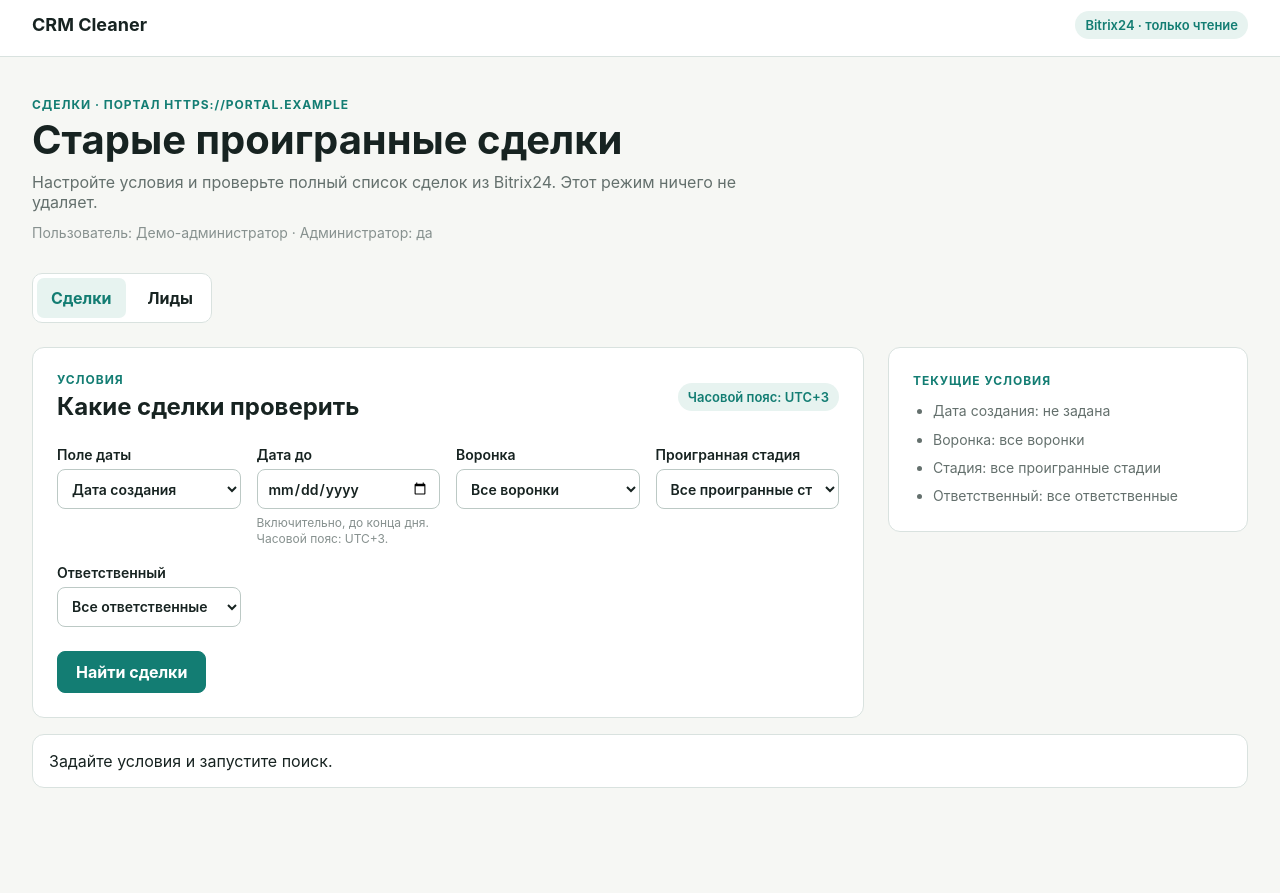
Scenario: App › offers lead preview and CSV but no confirmation in read-only mode even with a delete-capable adapter
The width and height of the screenshot is (1280, 893).
Click the radio button labelled "Лиды": (170, 298) [148,288,193,308]
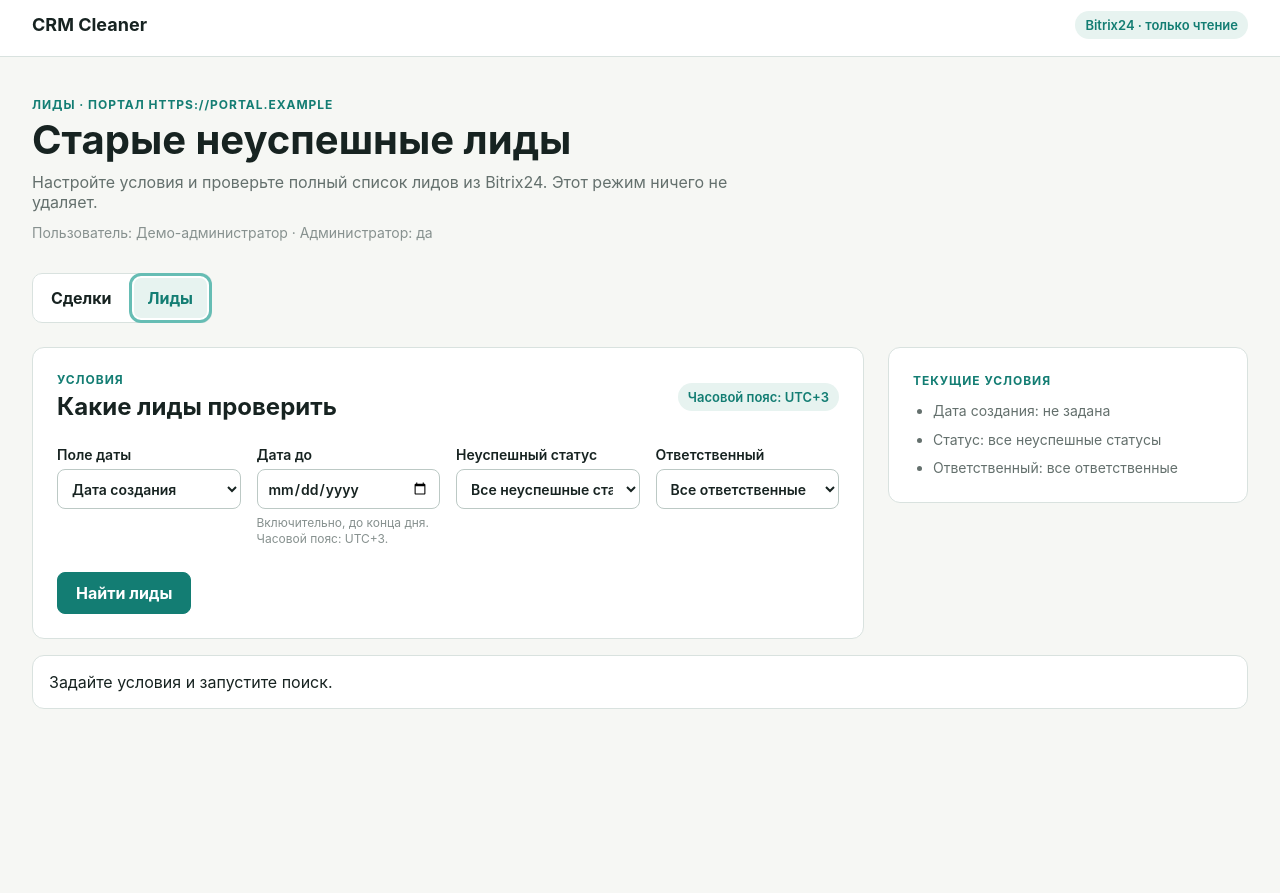
In the date field labelled "Дата до": (348, 489) [256,469,440,509], type "2026-12-31"
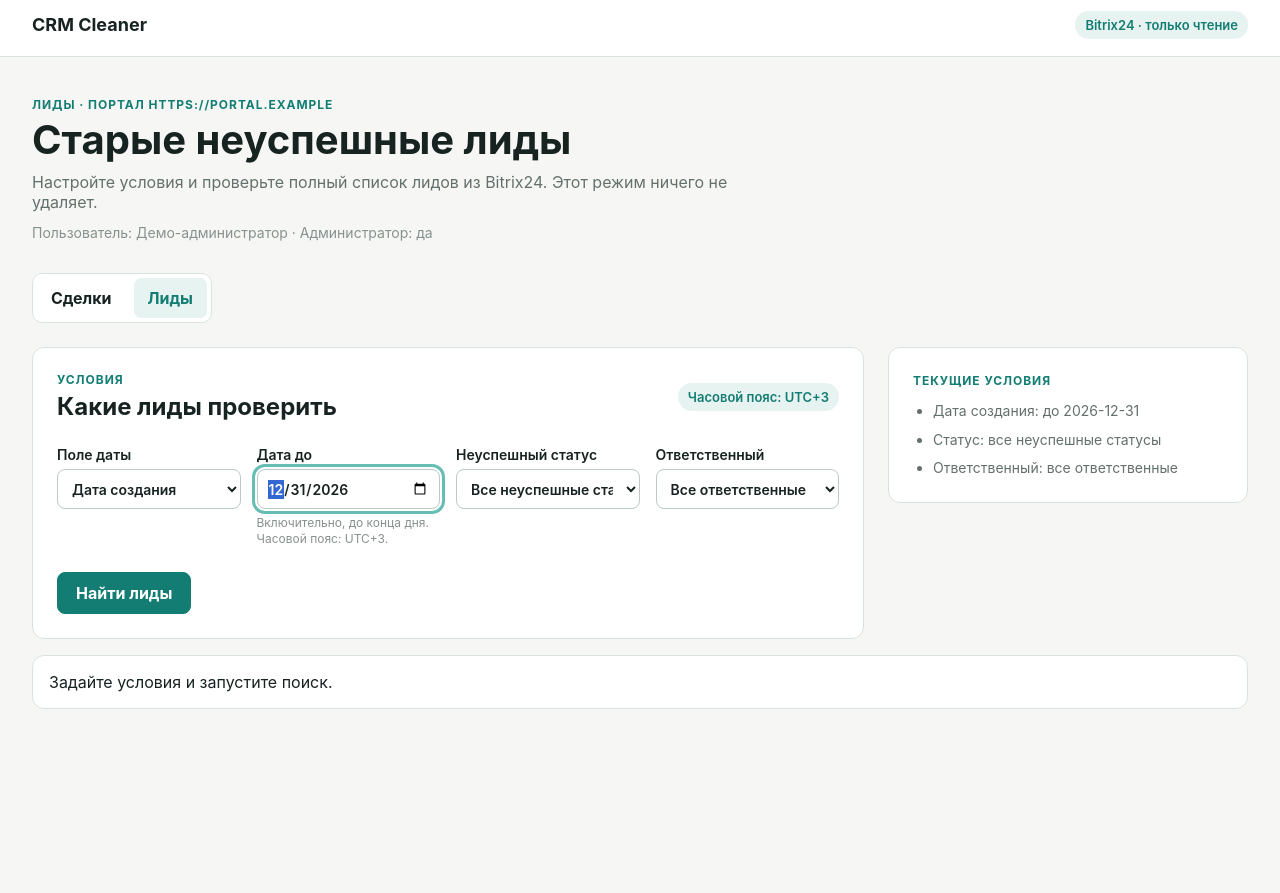
Click the button "Найти лиды": (124, 593) [57,572,191,614]
(page scrolled)
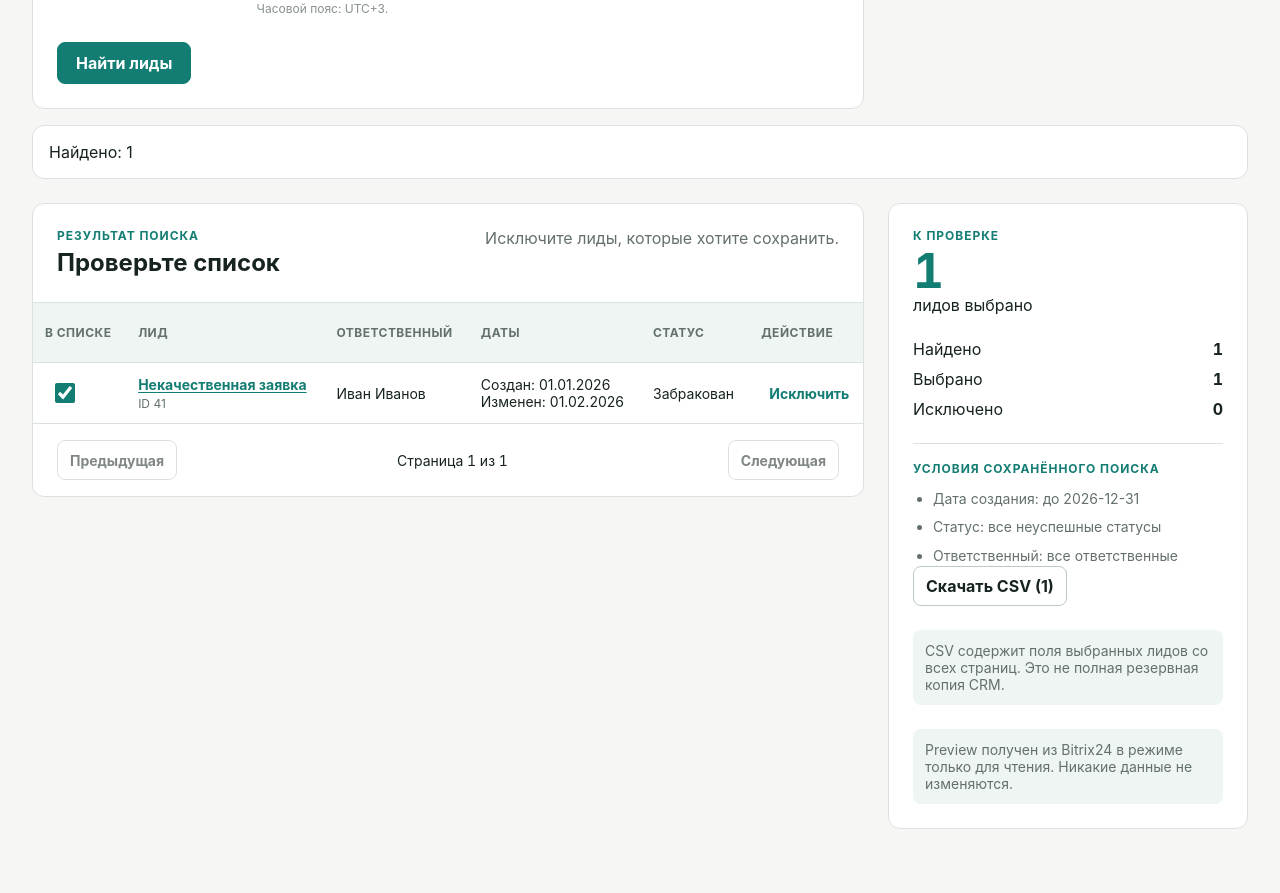
expect the button "Скачать CSV (1)" is enabled: met, box [913,566,1067,606]
